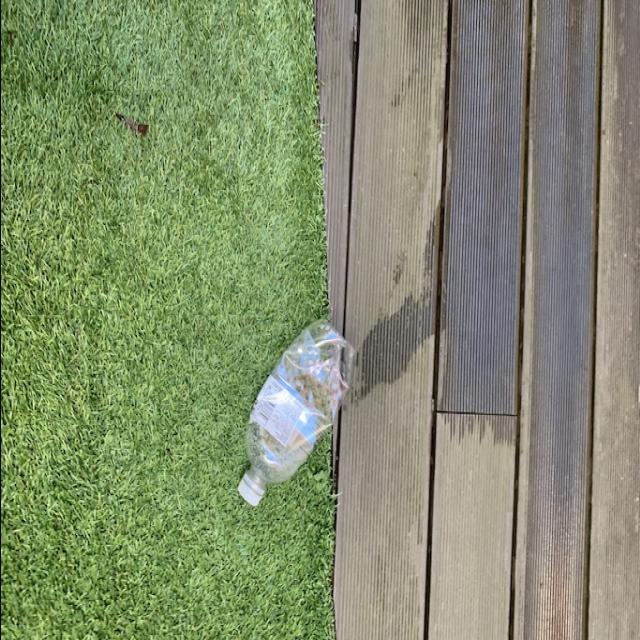litter: (234, 315, 356, 510)
